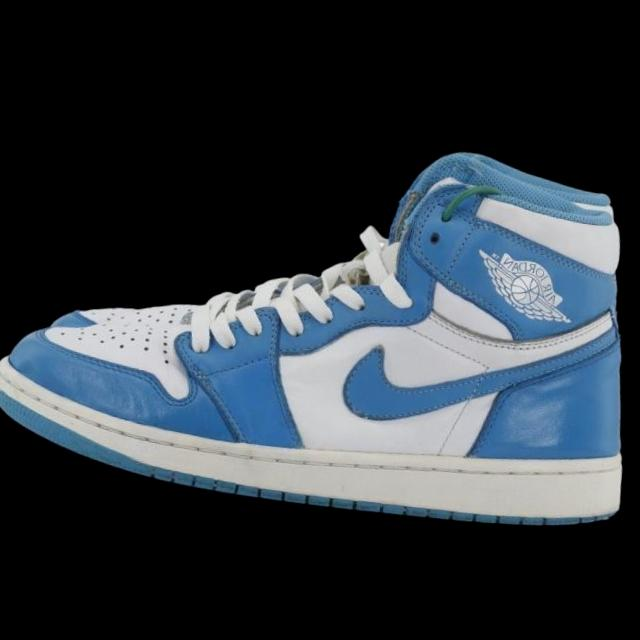nike_original_jordan: (0, 121, 640, 542)
